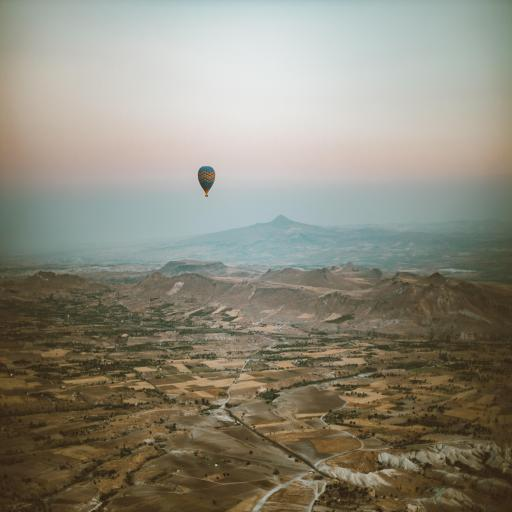hot air ballon: (198, 167, 215, 197)
